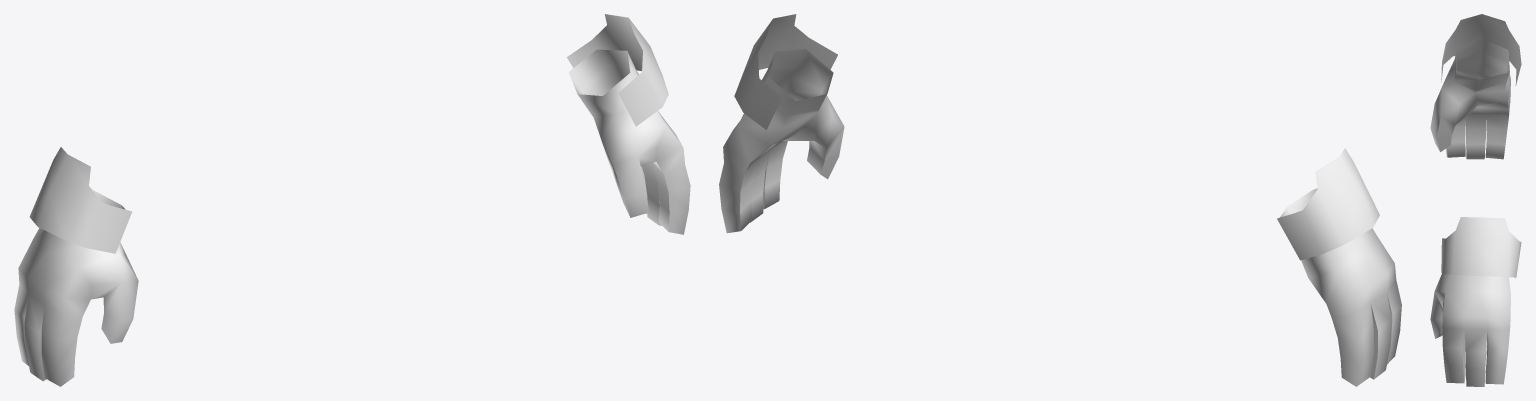
Rendered from hum_light_f_a11ceb0d.glb.
3 views of the same model, side by side, from view 1: azimuth 30°, elevation 25°; view 2: azimuth 150°, elevation 25°; view 3: azimuth 270°, elevation 25° (orthographic). The views are drawn at different scales.
Bounding box in the file's own units: 1.7 × 0.5333 × 0.2812.
Materials: 1 (1 with a texture image).
